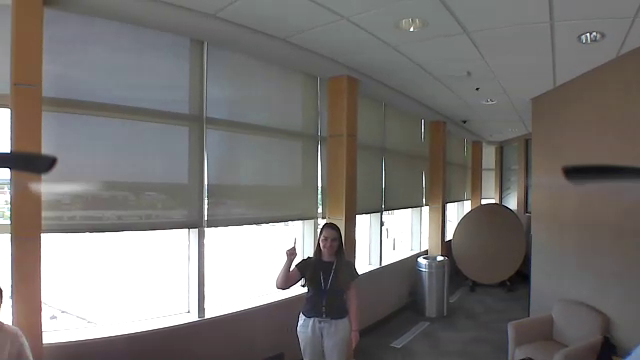up: (282, 235, 301, 261)
